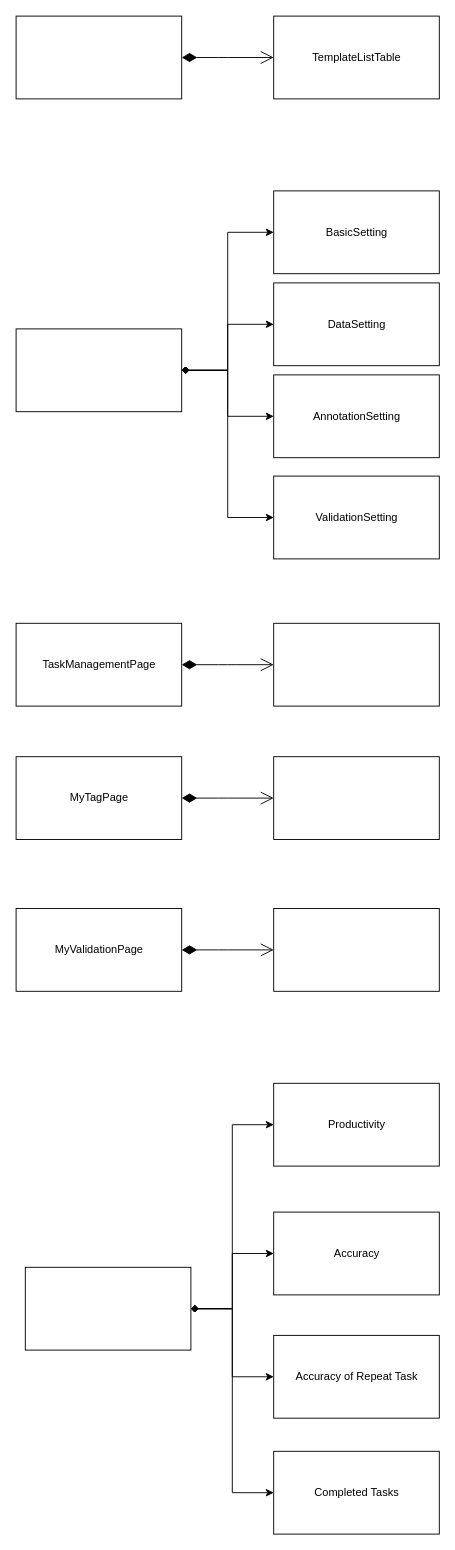
Some shapes in this 455 by 1550 pixel diagram are drawn without their labels. The centre of each missing label's shape, as x and y in pixels:
MyTagListTable: point (356, 798)
MyValidationListTable: point (356, 949)
PerformancePage: point (107, 1308)
TaskListTable: point (356, 664)
TemplateEdit/ViewPage: point (98, 370)
TemplateManagement Page: point (98, 57)
